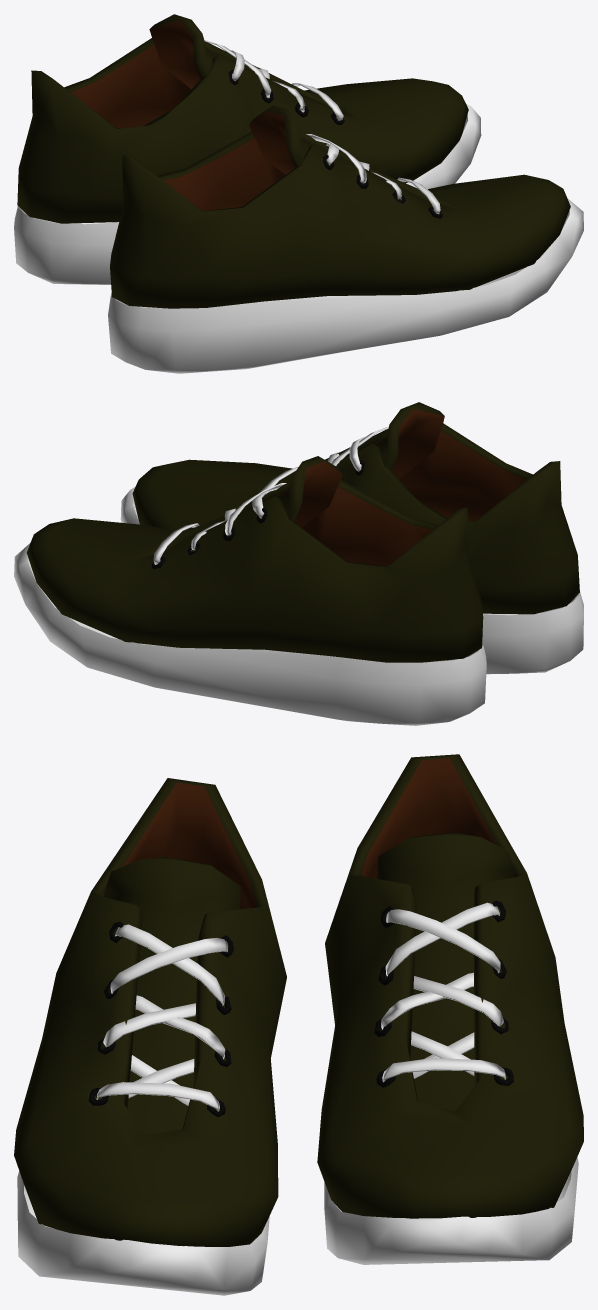
File: sneaker.fbx
3 renders of one model, top to bottom at view 1: azimuth 30°, elevation 25°; view 2: azimuth 150°, elevation 25°; view 3: azimuth 270°, elevation 25°, orthographic. The views are drawn at different scales.
Visible parts, largest first — view 1: 平面.004, 平面, 平面.005, 平面.002, ベジエカーブ.002, ベジエカーブ.003; view 2: 平面, 平面.004, 平面.002, 平面.005, ベジエカーブ.002, ベジエカーブ.003; view 3: 平面.004, 平面, 平面.002, 平面.005, ベジエカーブ.003, ベジエカーブ.002, トーラス.001, トーラス.003.
Boxes of the visible parts, x1,y1,x2,y2 form: 平面.004: (110,105,570,308); 平面: (17,14,468,223); 平面.005: (108,198,583,373); 平面.002: (14,104,481,284); ベジエカーブ.002: (204,40,343,120); ベジエカーブ.003: (306,134,440,214); 平面: (26,456,483,662); 平面.004: (132,402,579,614); 平面.002: (14,543,486,725); 平面.005: (120,487,583,674); ベジエカーブ.002: (153,483,286,564); ベジエカーブ.003: (260,427,388,492); 平面.004: (14,778,286,1246); 平面: (317,754,583,1218); 平面.002: (324,1157,578,1264); 平面.005: (17,1171,269,1295); ベジエカーブ.003: (96,924,227,1111); ベジエカーブ.002: (381,902,505,1082); トーラス.001: (374,906,395,1087); トーラス.003: (207,935,233,1117).
Bounding box in the file's own units: 17.45 × 8.86 × 13.66.
